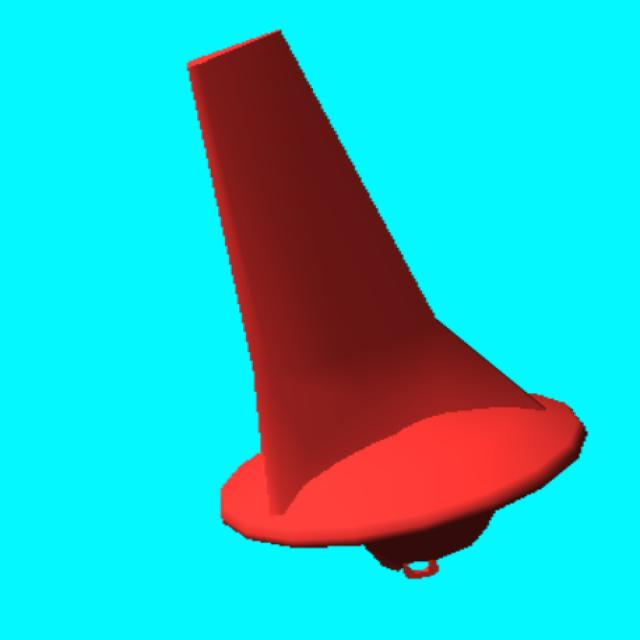RedBuoy: (190, 32, 585, 571)
